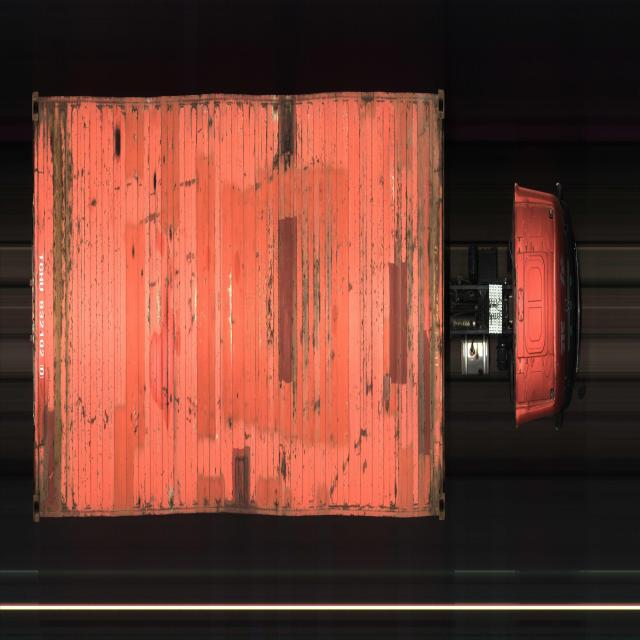rust: (50, 102, 74, 323), (397, 176, 414, 369), (429, 182, 440, 382), (303, 254, 323, 360), (55, 378, 70, 502), (279, 98, 300, 179), (268, 239, 276, 358), (235, 452, 250, 505), (420, 359, 427, 461), (279, 444, 292, 497), (432, 462, 444, 514)
